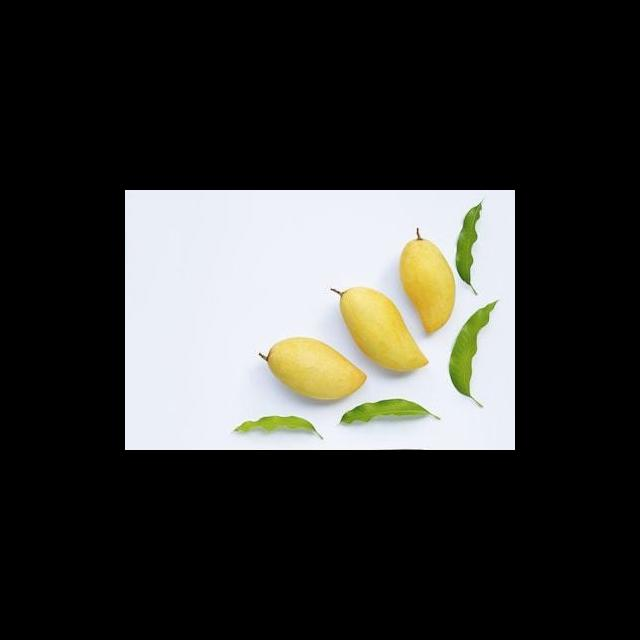mango: (332, 286, 428, 373), (263, 337, 368, 402), (398, 237, 456, 336)
